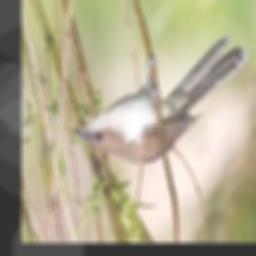Cuckoo: (73, 35, 248, 165)
